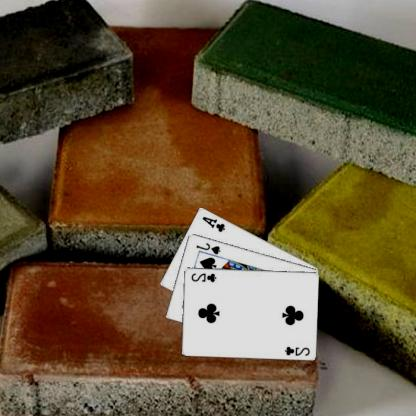2C: (190, 270, 219, 283), (284, 344, 313, 356)
AC: (202, 214, 228, 233)
JS: (195, 240, 223, 256)
